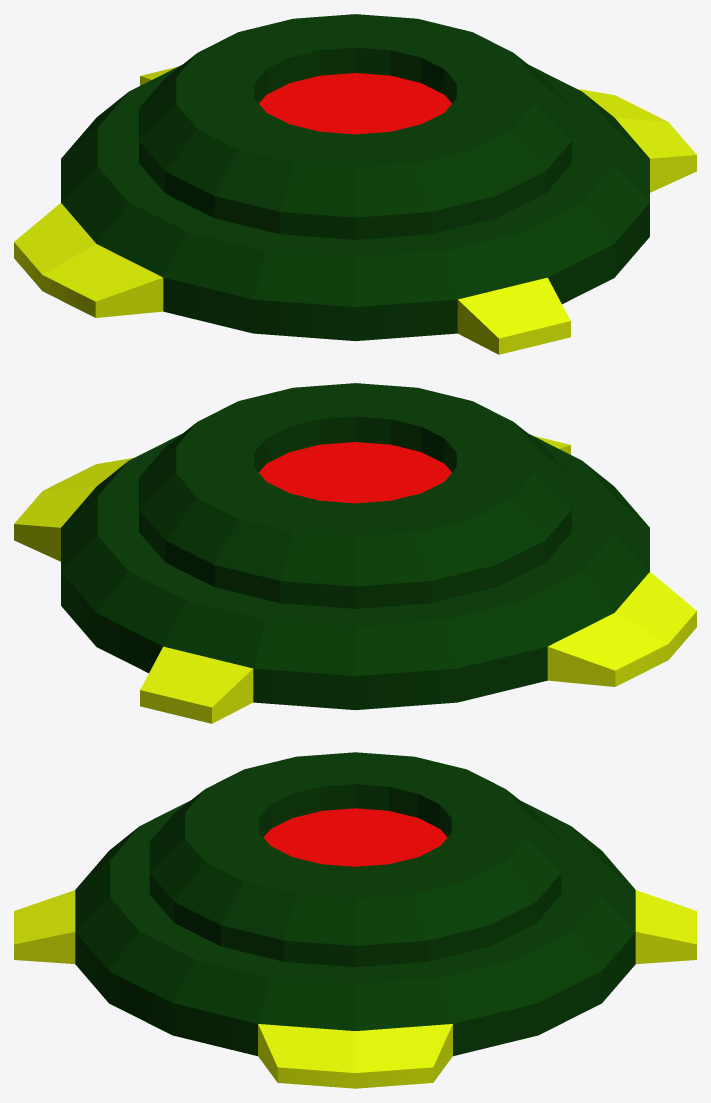
Rendered from MinaTerrestre.FBX.
The picture shows the model from 3 angles, top to bottom: view 1: azimuth 30°, elevation 25°; view 2: azimuth 150°, elevation 25°; view 3: azimuth 270°, elevation 25°; orthographic projection. The views are drawn at different scales.
Visible parts, largest first — view 1: Cylinder001; view 2: Cylinder001; view 3: Cylinder001.
Boxes of the visible parts, box(x1,y1,x2,y2) form: Cylinder001: box(14, 14, 696, 354); Cylinder001: box(14, 383, 696, 723); Cylinder001: box(14, 752, 696, 1088).
Bounding box in the file's own units: 2.42 × 0.4567 × 2.4.
